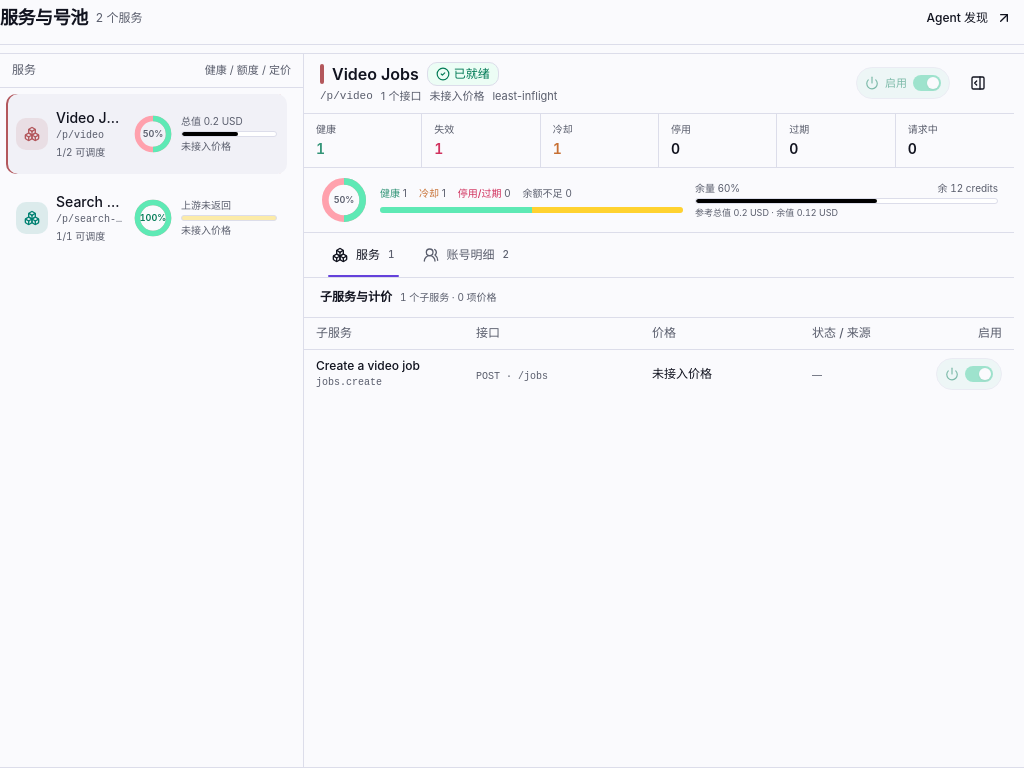
Scenario: ProtocolsPage master-detail pool console › switches pools from the service navigation without an accordion step
This screenshot has width=1024, height=768.
What coordinates should you click on to do the following:
click the tab "账号明细 2"
I would click on:
 (466, 254)
Its box is [410,232,521,276].
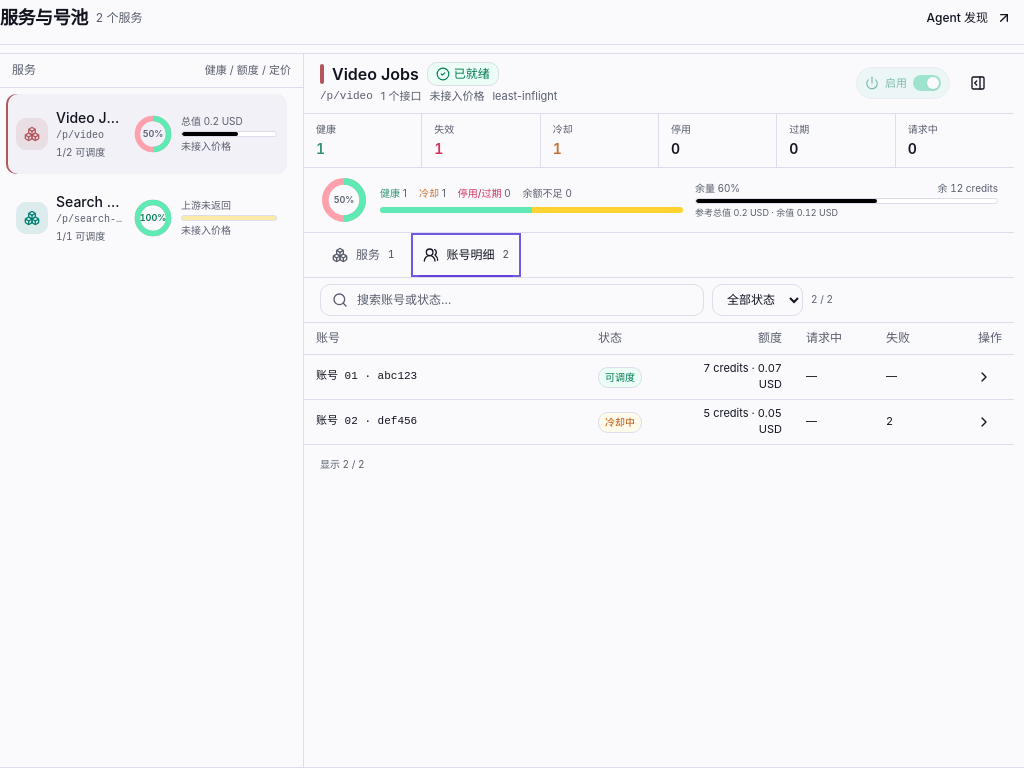
What coordinates should you click on to do the following:
click the button "Search Fixture /p/search-fixture 1/1 可调度 100% 上游未返回 未接入价格"
I would click on:
 (146, 218)
Its box is [6,178,287,258].
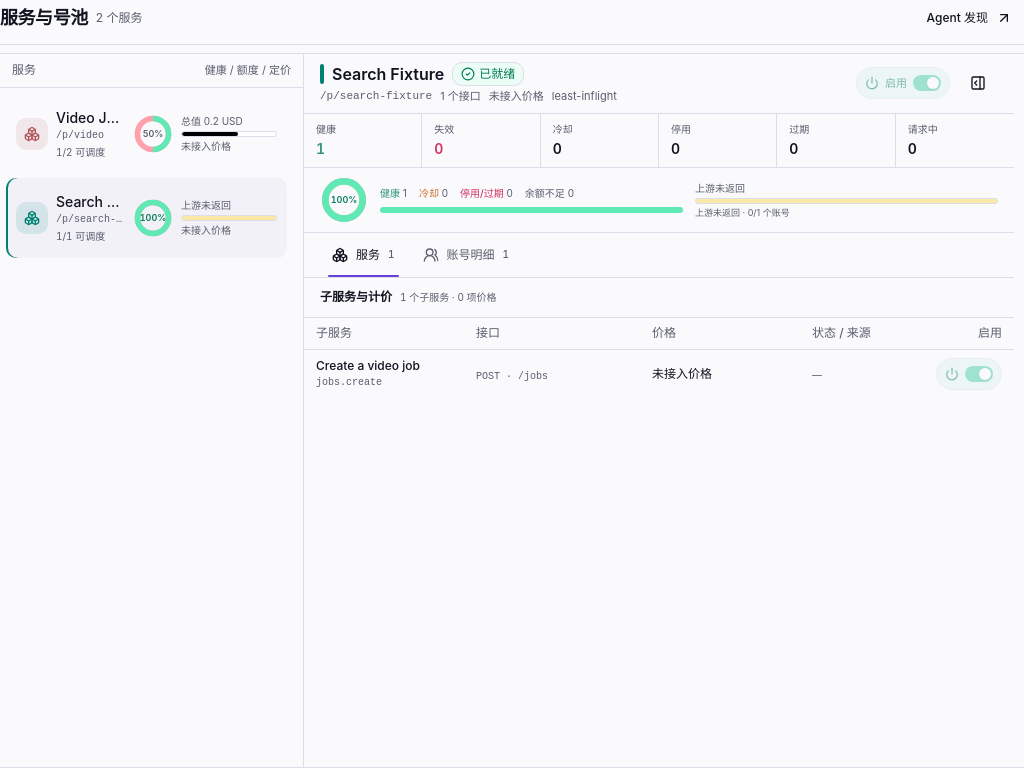
Expected: the number of pictures named "Search Fixture 健康 1，失效 0" is 2, [133,198,173,238]; [320,176,368,224]
Expected: the number of messages named "Search Fixture 上游未返回" is 2, [181,215,277,221]; [695,198,998,204]
What coordinates should you click on to do the following:
click the tab "账号明细 1"
I would click on:
 (466, 254)
Its box is [410,232,521,276].
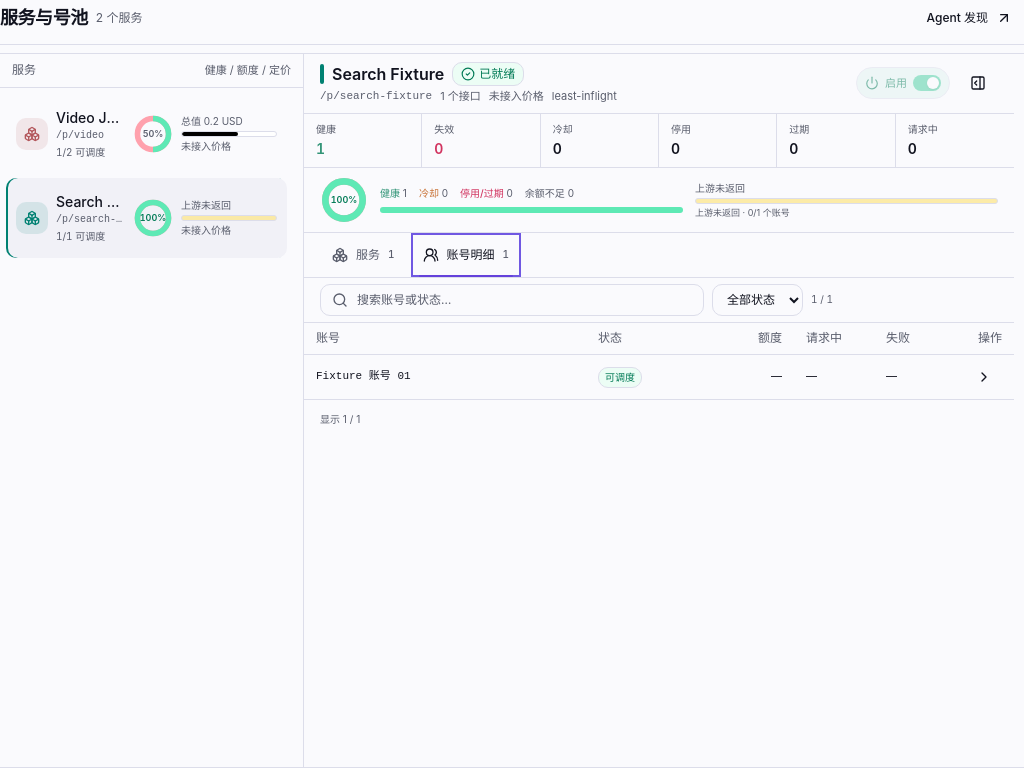
Expected: the button "账号 01 · abc123" is not shown
Expected: the button "Fixture 账号 01" is shown, [316,359,574,395]
